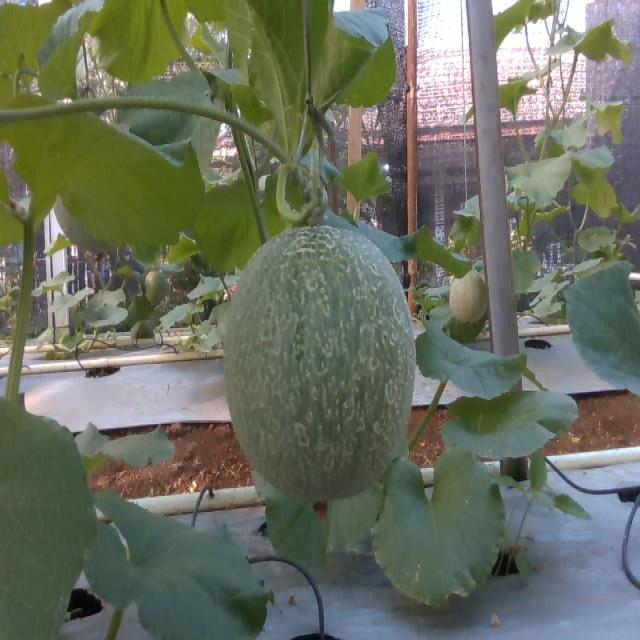melon: (225, 227, 416, 502)
